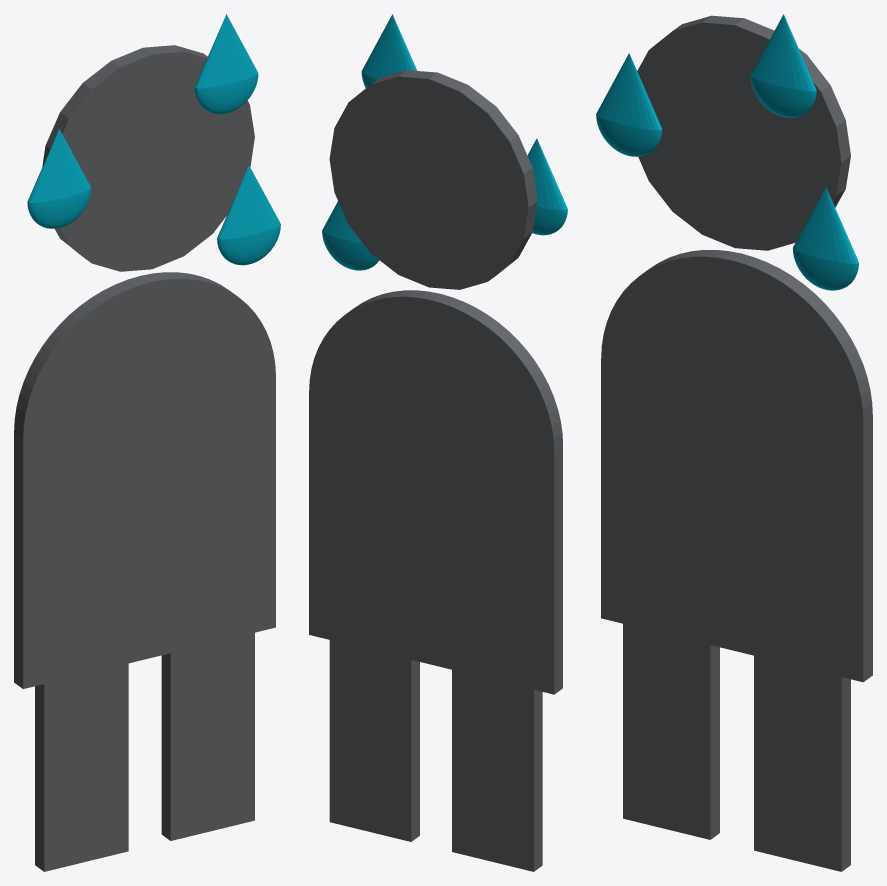
The model's file is cientifico3.glb.
3 views of the same model, side by side, from view 1: azimuth 30°, elevation 25°; view 2: azimuth 150°, elevation 25°; view 3: azimuth 330°, elevation 25° (orthographic). The views are drawn at different scales.
Visible parts, largest first — view 1: Mesh_Mesh_head_geo.001_lambert2SG.001; view 2: Mesh_Mesh_head_geo.001_lambert2SG.001; view 3: Mesh_Mesh_head_geo.001_lambert2SG.001.
Part boxes in pixels (x1,y1,x2,y2): Mesh_Mesh_head_geo.001_lambert2SG.001: (14, 14, 280, 871); Mesh_Mesh_head_geo.001_lambert2SG.001: (309, 14, 567, 871); Mesh_Mesh_head_geo.001_lambert2SG.001: (596, 14, 872, 871).
Size of the model in its own units: 16 by 50 by 3.
